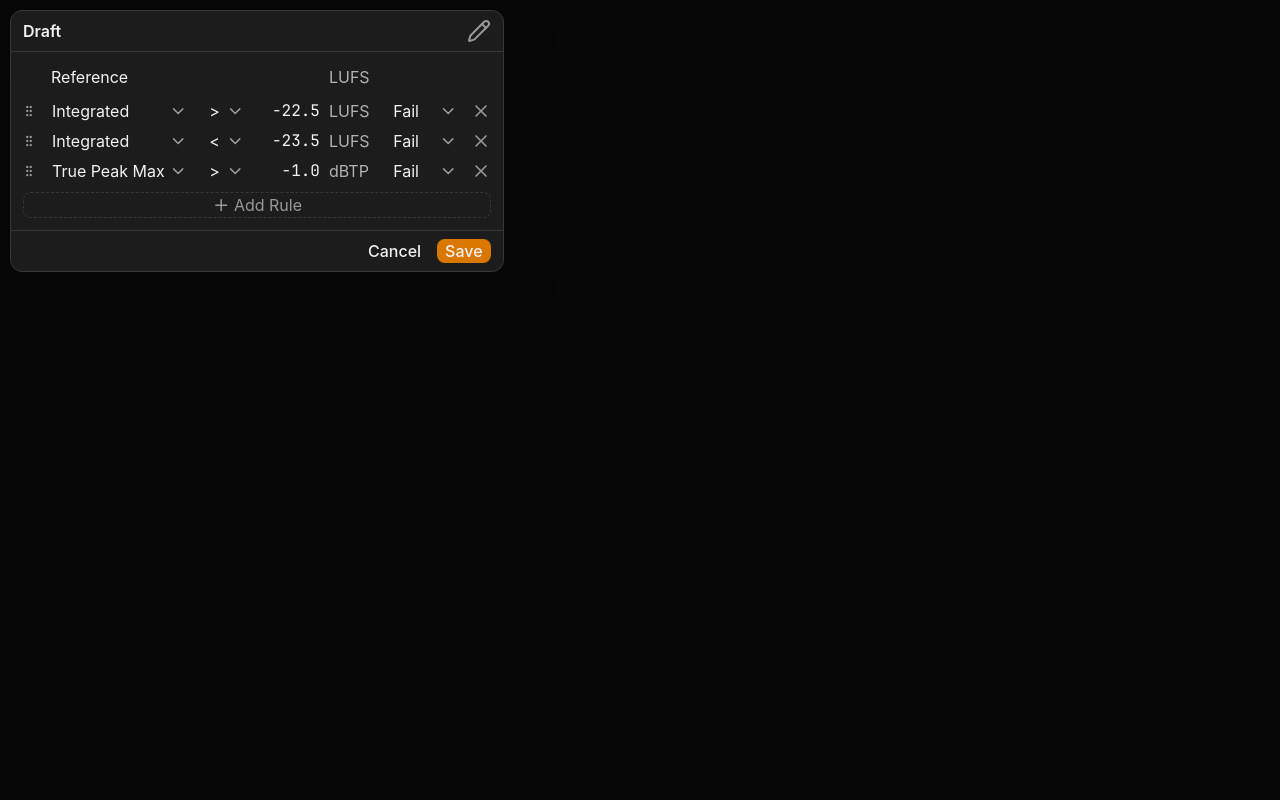
LoudnessProfileEditor › rounds a value to the precision its metric is displayed at
Replace the text in the number field named "Rule 1 value" with "-23.456789" at (291, 111), box [258,98,325,124]
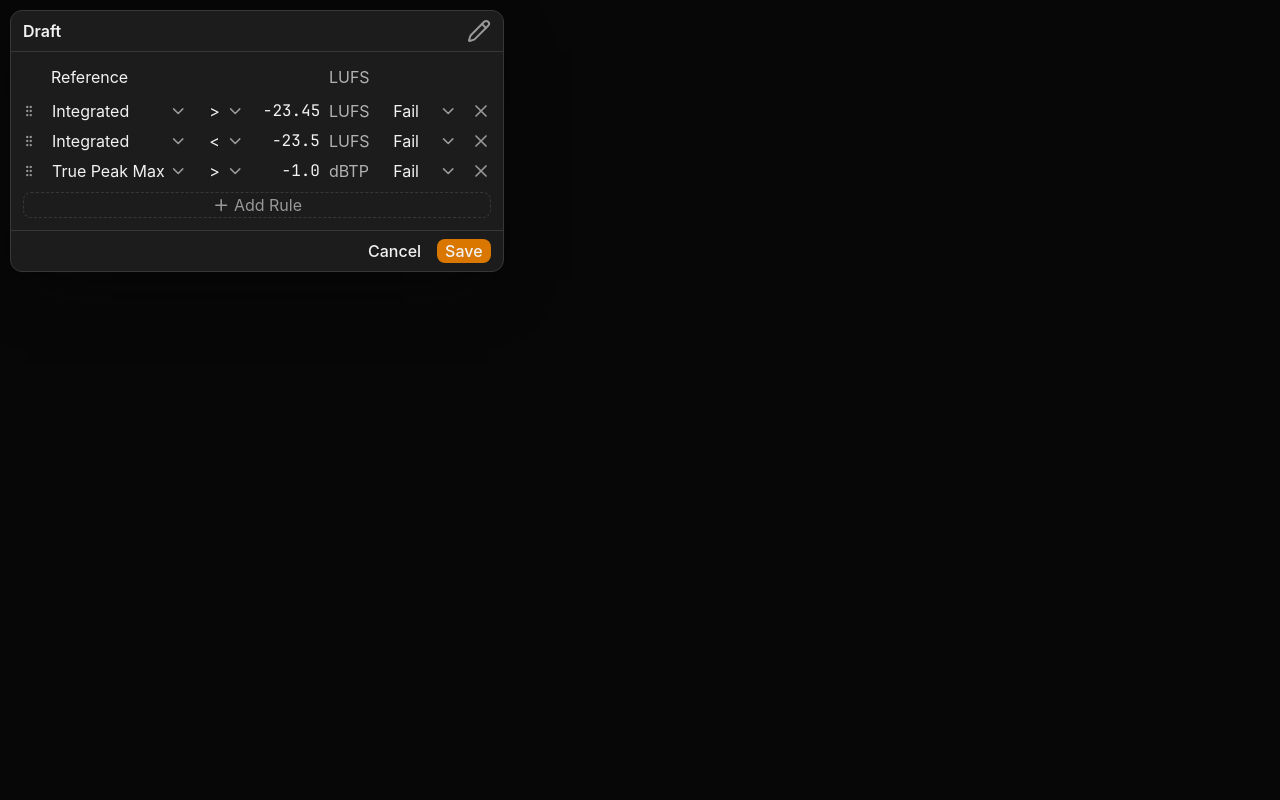
Leave the number field named "Rule 1 value", box [258,98,325,124]
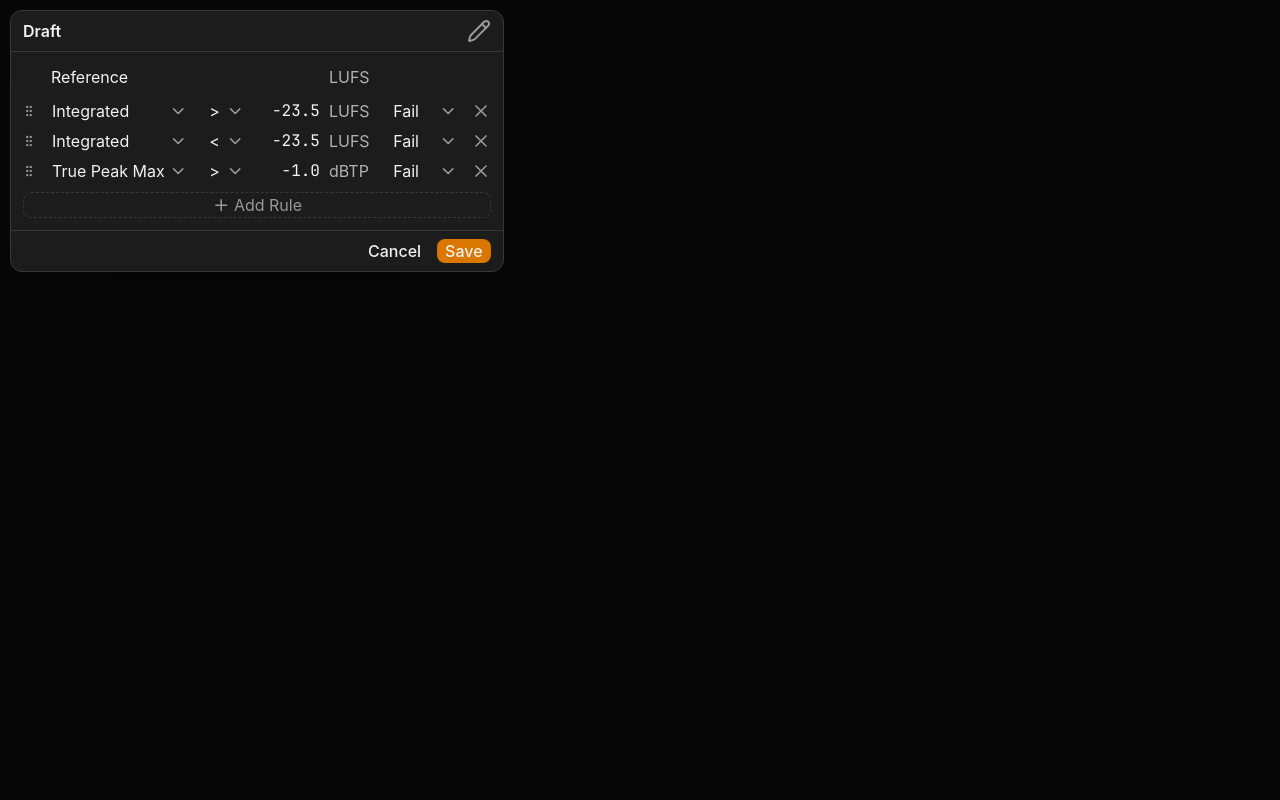
Now the number field named "Rule 1 value" holds "-23.5", box [258,98,325,124]
